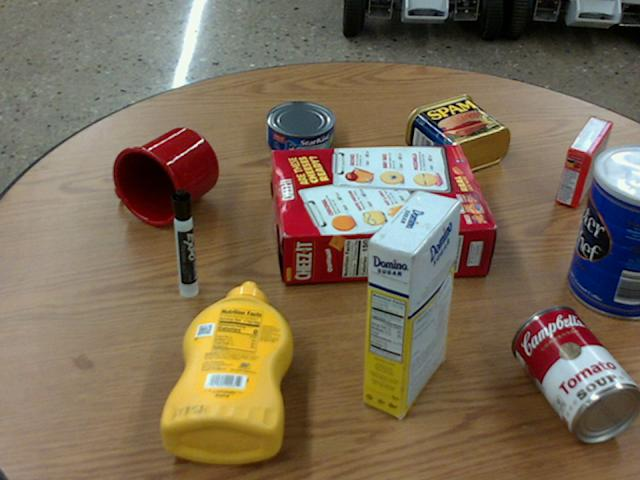cracker_box: (270, 145, 493, 283)
gelatin_box: (556, 117, 611, 207)
large_marker: (171, 188, 196, 296)
master_chef_can: (567, 145, 639, 319)
mug: (112, 126, 217, 225)
mustard_bottle: (161, 281, 291, 461)
potted_meat_can: (405, 94, 510, 173)
sugar_box: (362, 190, 460, 416)
tomato_soup_can: (512, 304, 639, 439)
tuna_fish_can: (266, 100, 335, 156)
